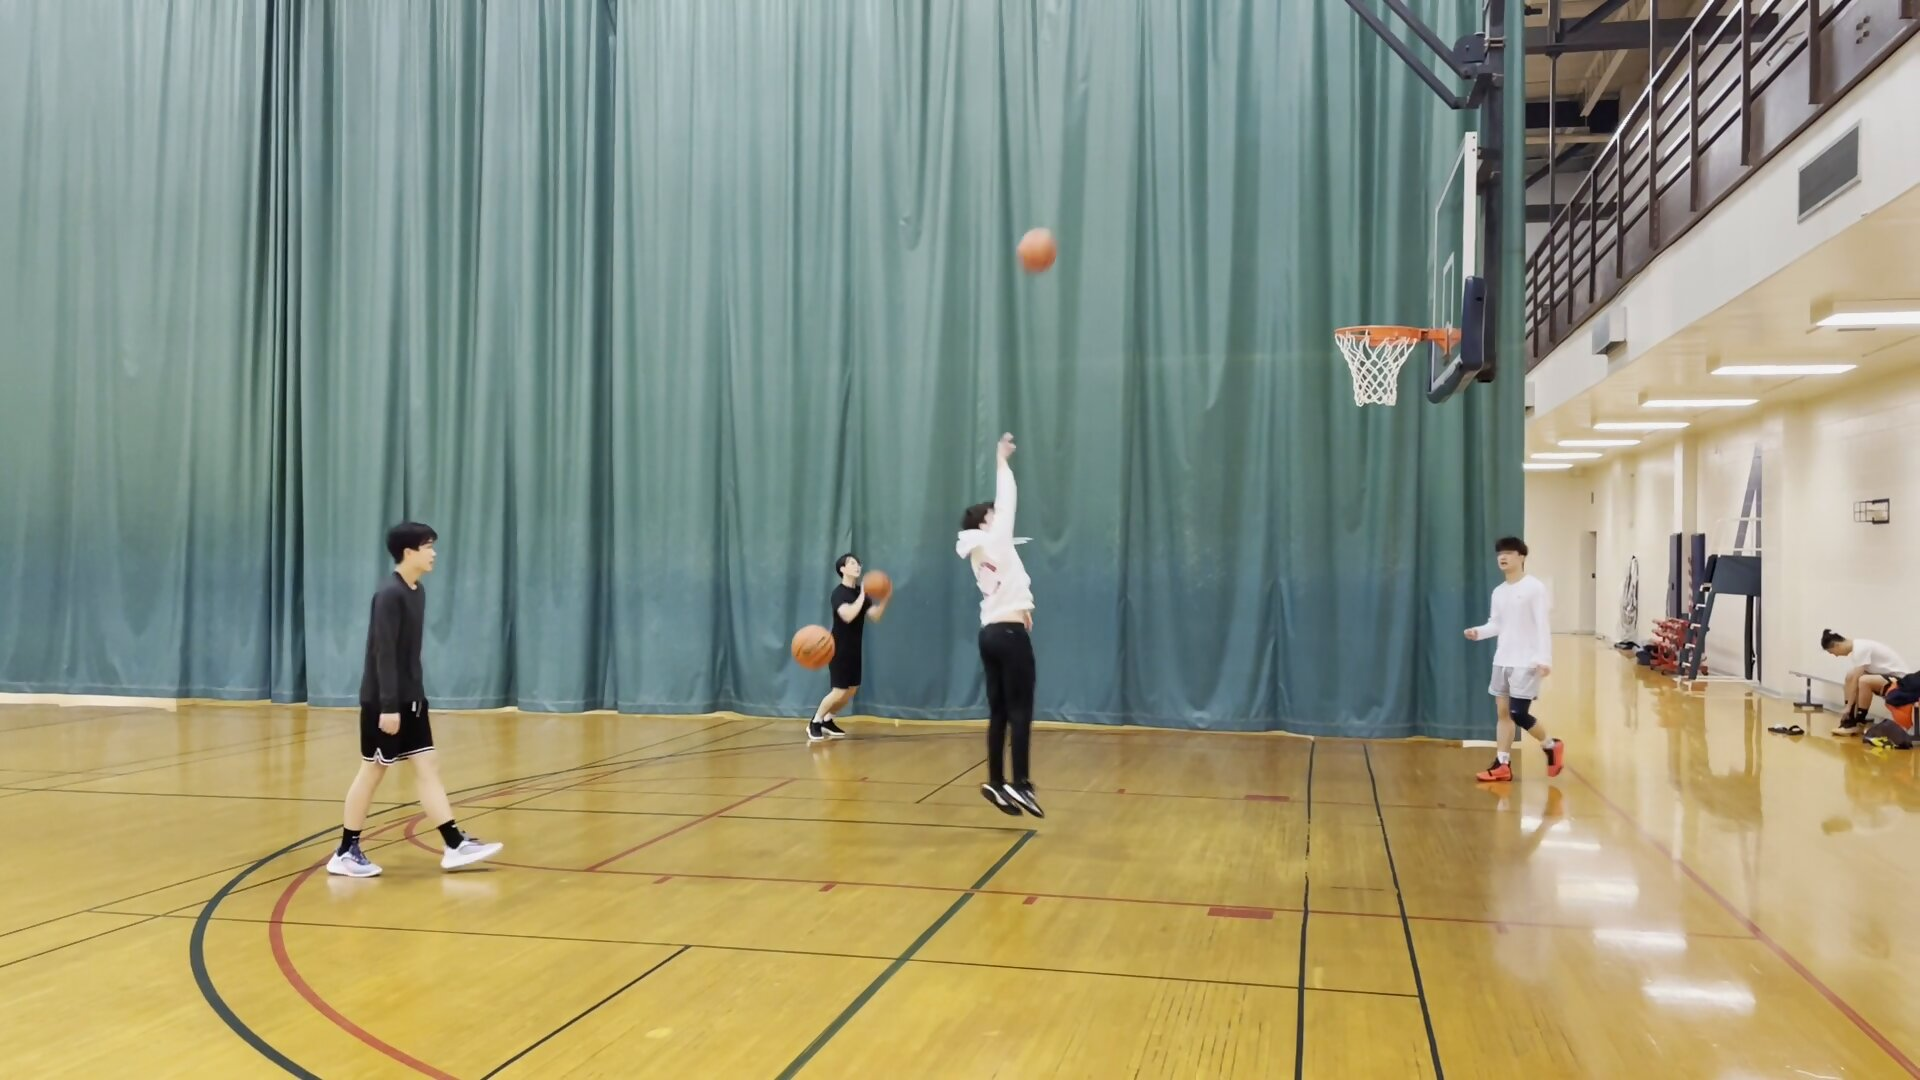ball: (788, 625, 840, 673), (1012, 225, 1055, 274), (862, 567, 892, 606)
net: (1349, 377, 1402, 410)
player: (327, 522, 508, 879), (955, 430, 1053, 824), (1468, 538, 1569, 787), (806, 554, 876, 755), (1819, 626, 1914, 736)
rim: (1327, 324, 1426, 349)
